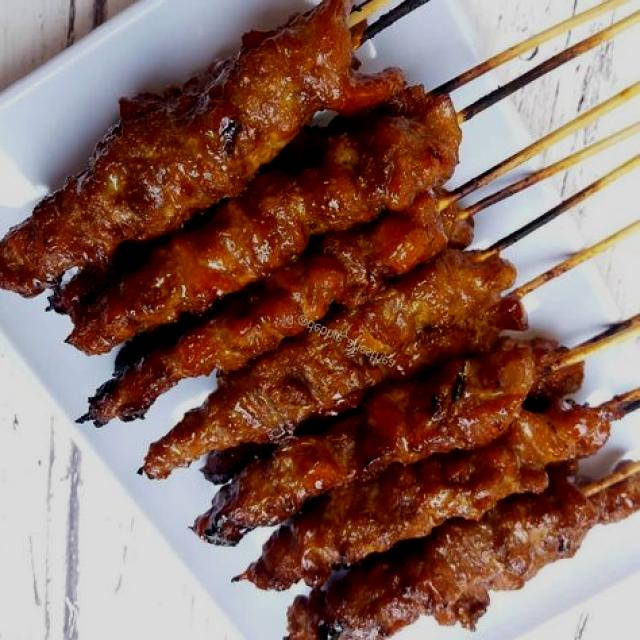sate: (0, 0, 640, 640)
